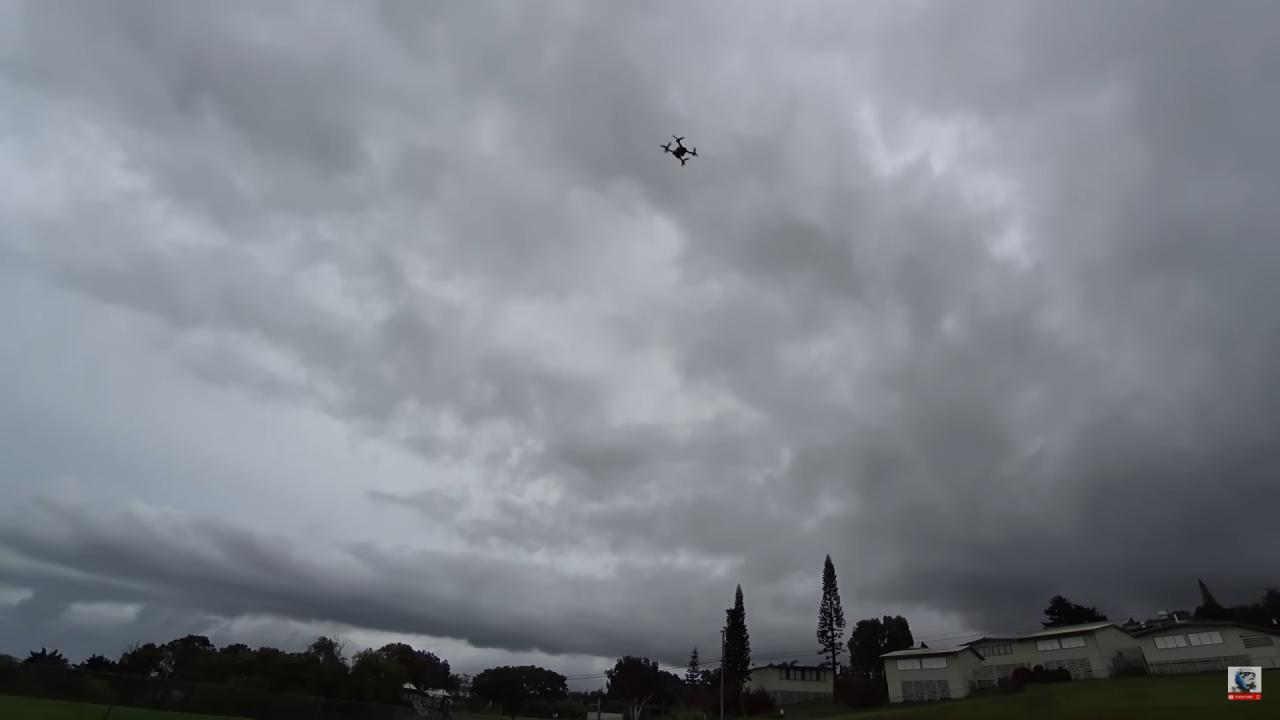Drone: (654, 130, 705, 172)
